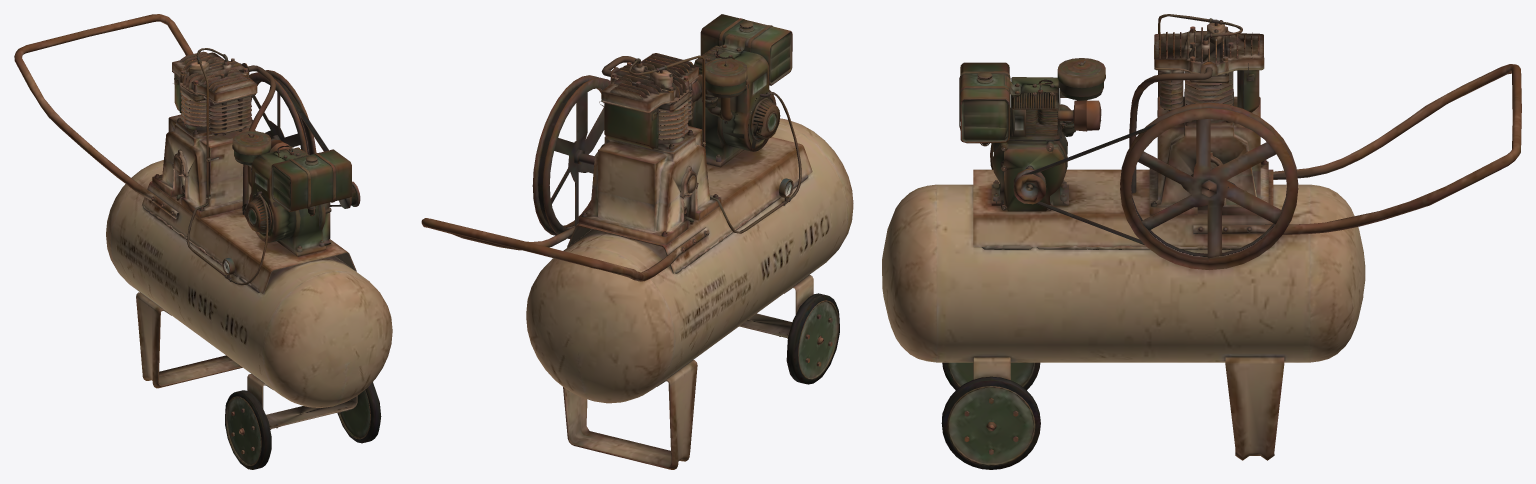
Rendered from old_military_compressor.glb.
3 renders of one model, left to right at view 1: azimuth 30°, elevation 25°; view 2: azimuth 150°, elevation 25°; view 3: azimuth 270°, elevation 25°, orthographic. The views are drawn at different scales.
Visible parts, largest first — view 1: old_military_compressor; view 2: old_military_compressor; view 3: old_military_compressor.
Boxes of the visible parts, left/top/right/bottom form: old_military_compressor: left=14, top=14, right=392, bottom=469; old_military_compressor: left=421, top=14, right=853, bottom=469; old_military_compressor: left=882, top=14, right=1521, bottom=469.
Bounding box in the file's own units: 0.5983 × 1.18 × 1.67.
Materials: 2 (2 with a texture image).
